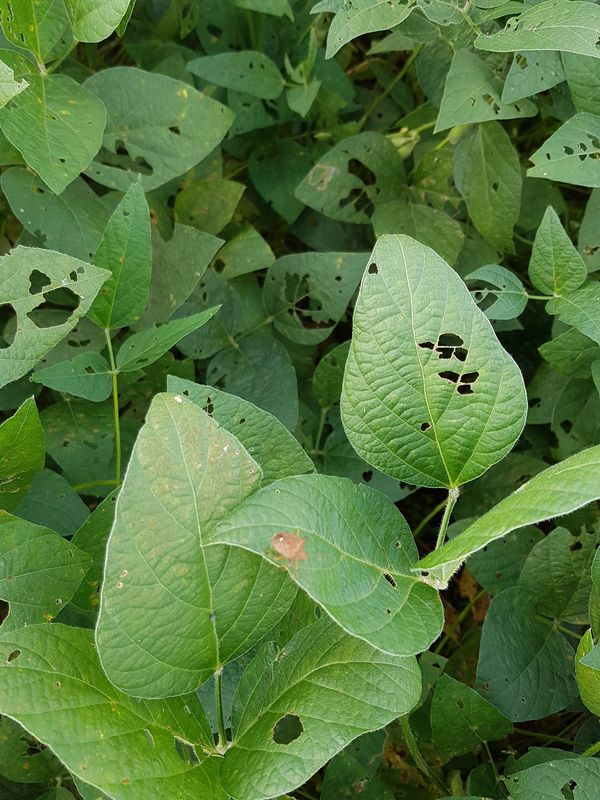Euschistus_heros_adulto: (264, 525, 317, 578)
